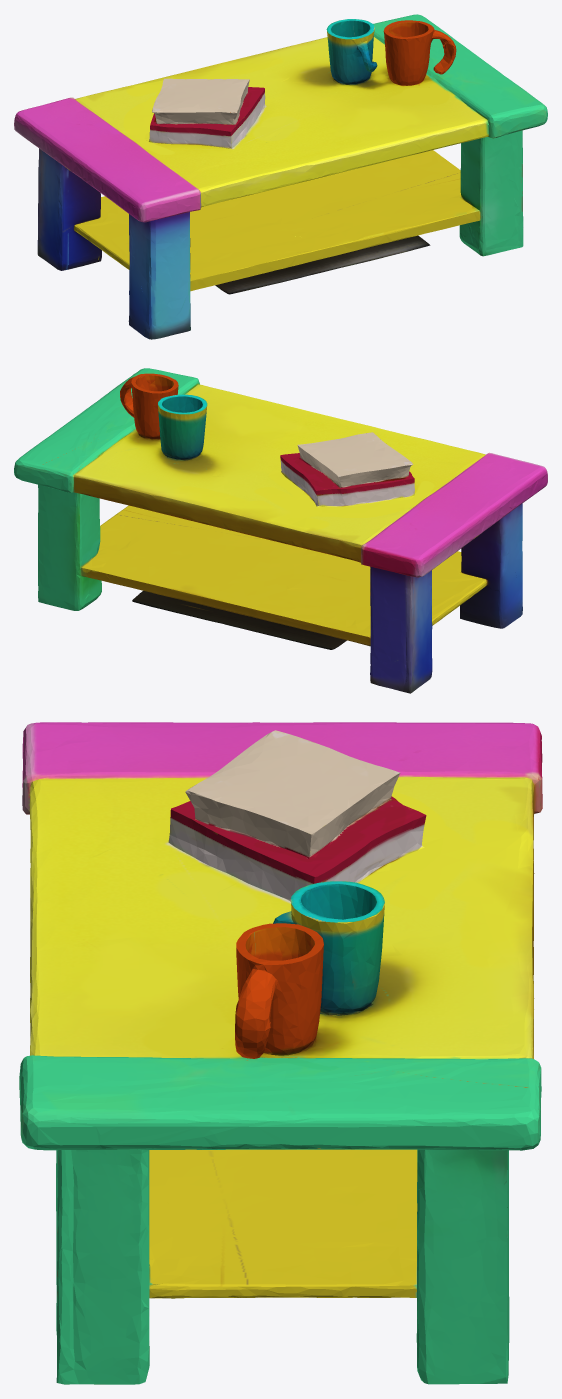
File: CoffeeTable.fbx
3 views of the same model, one above another, from view 1: azimuth 30°, elevation 25°; view 2: azimuth 150°, elevation 25°; view 3: azimuth 270°, elevation 25° (orthographic). The views are drawn at different scales.
Parts seen in each view (by area): view 1: geometry_0; view 2: geometry_0; view 3: geometry_0.
Part boxes in pixels (box(x1,y1,x2,y2)): geometry_0: box(14, 14, 547, 339); geometry_0: box(14, 368, 547, 693); geometry_0: box(19, 722, 542, 1384).
Bounding box in the file's own units: 3 × 1.36 × 1.66.
1 material, 1 textured.
